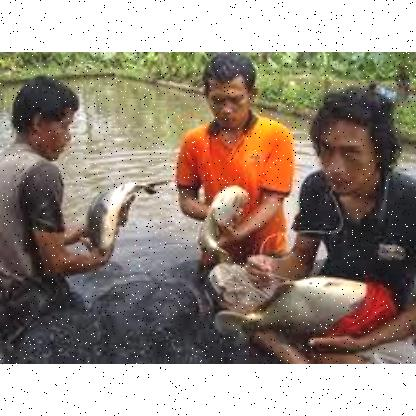ikan-pacu: (86, 173, 166, 250)
